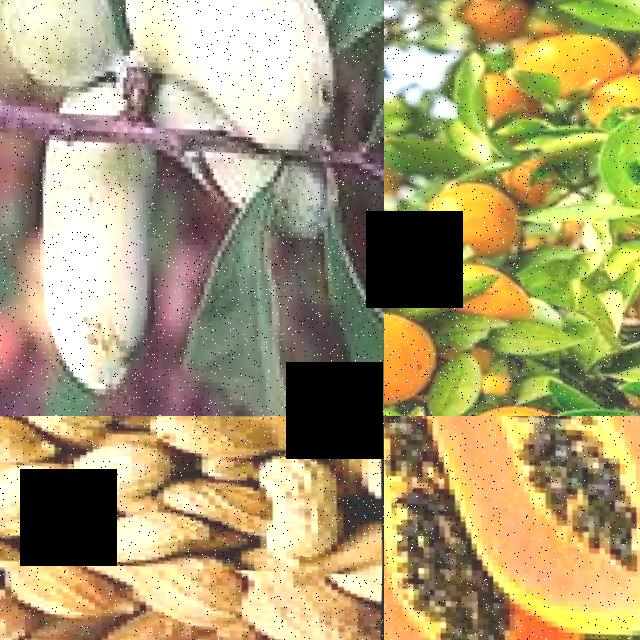orange: (425, 170, 526, 247), (515, 19, 630, 79), (384, 302, 440, 399), (460, 391, 578, 416)
pawpaw: (441, 416, 640, 639), (384, 416, 461, 640)
peanuts: (27, 501, 209, 568), (23, 429, 171, 505), (255, 438, 345, 552), (239, 563, 372, 640), (154, 416, 340, 455), (0, 581, 28, 640)
